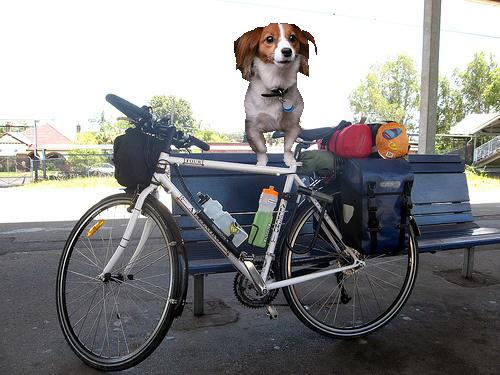tampered: (235, 24, 317, 166)
